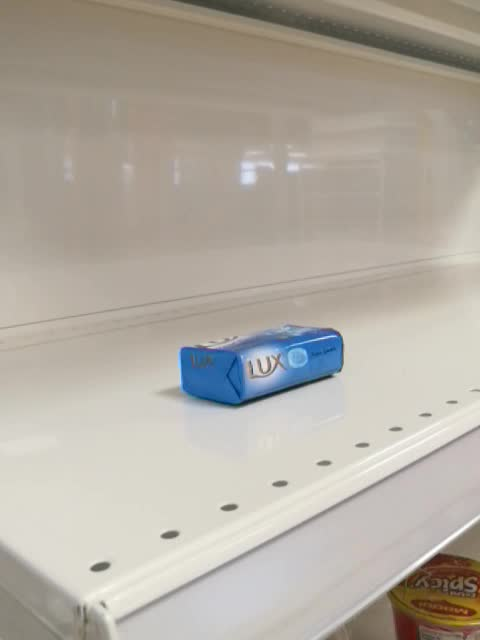soap: (179, 322, 345, 407)
